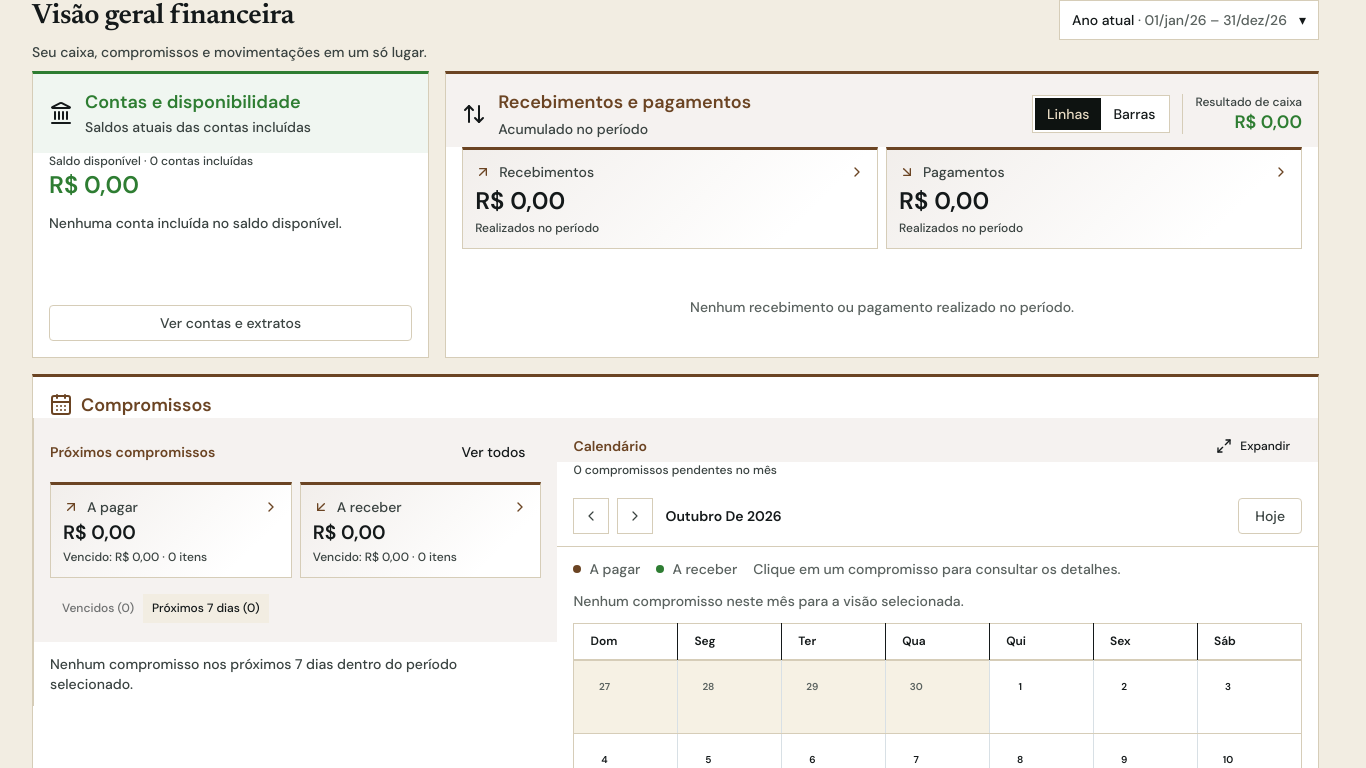
Test case: Visão geral — grid operacional › remove rastreabilidade e volume e abre calendário em modal
expect the heading "Compromissos" is shown: met, box [49,393,212,417]
Click the button with aria-label "Expandir calendário". click: click(1253, 446)
box: [1204,430,1302,462]
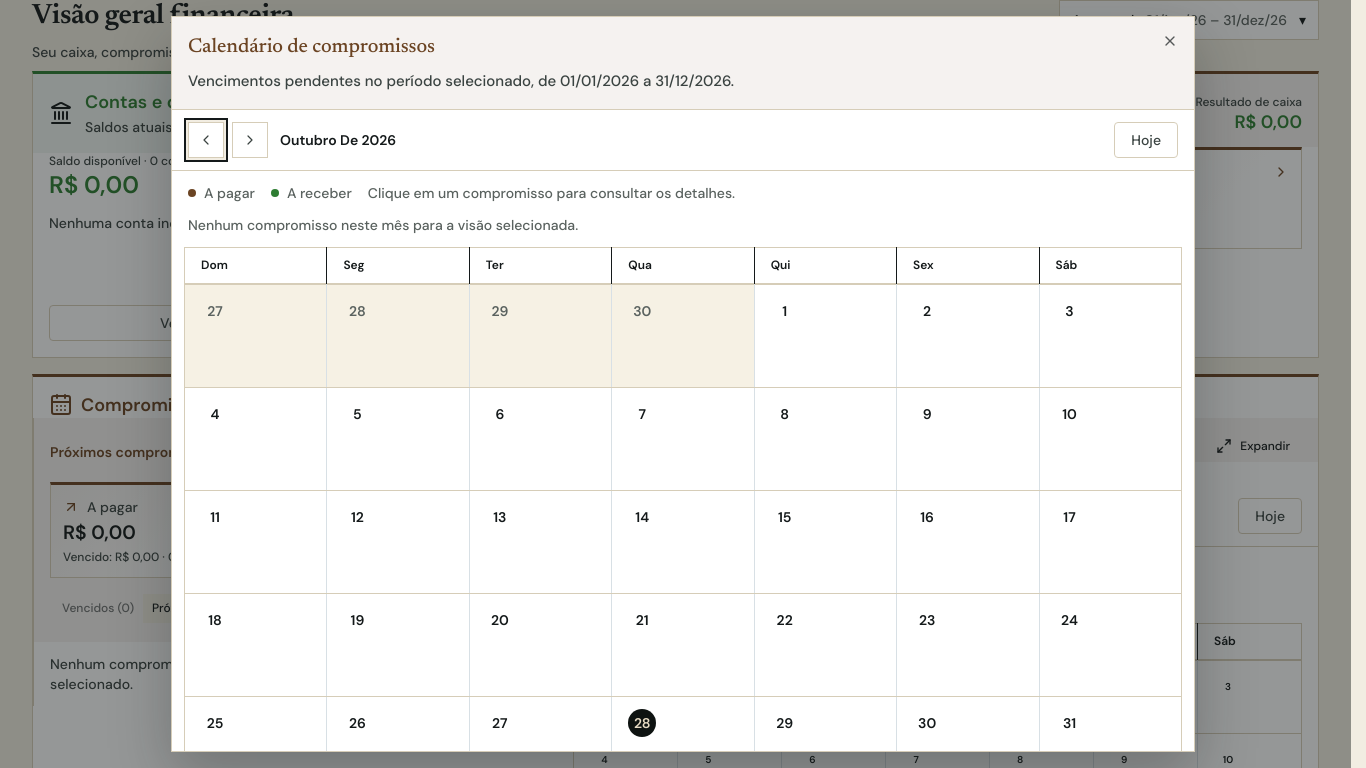
expect the dialog "Calendário de compromissos" is shown: met
Press Escape in the dialog
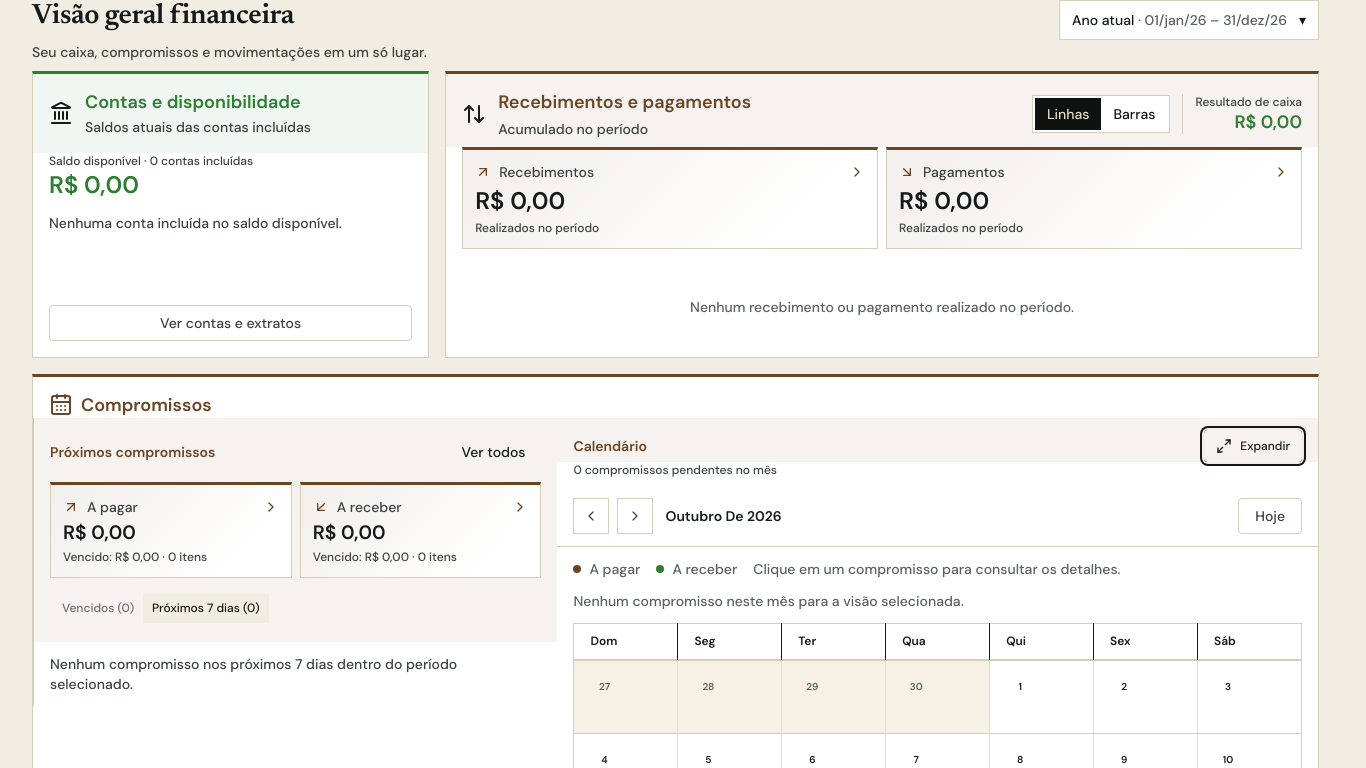
expect the dialog is gone: met
